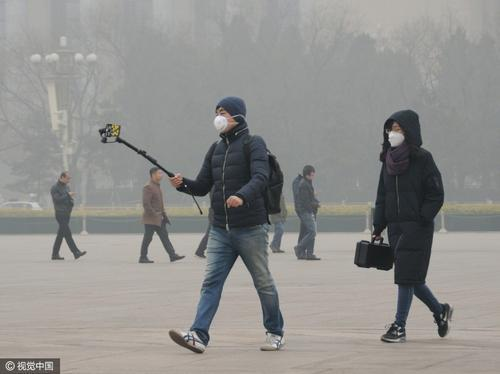mask: (381, 125, 406, 148), (213, 114, 241, 132)
